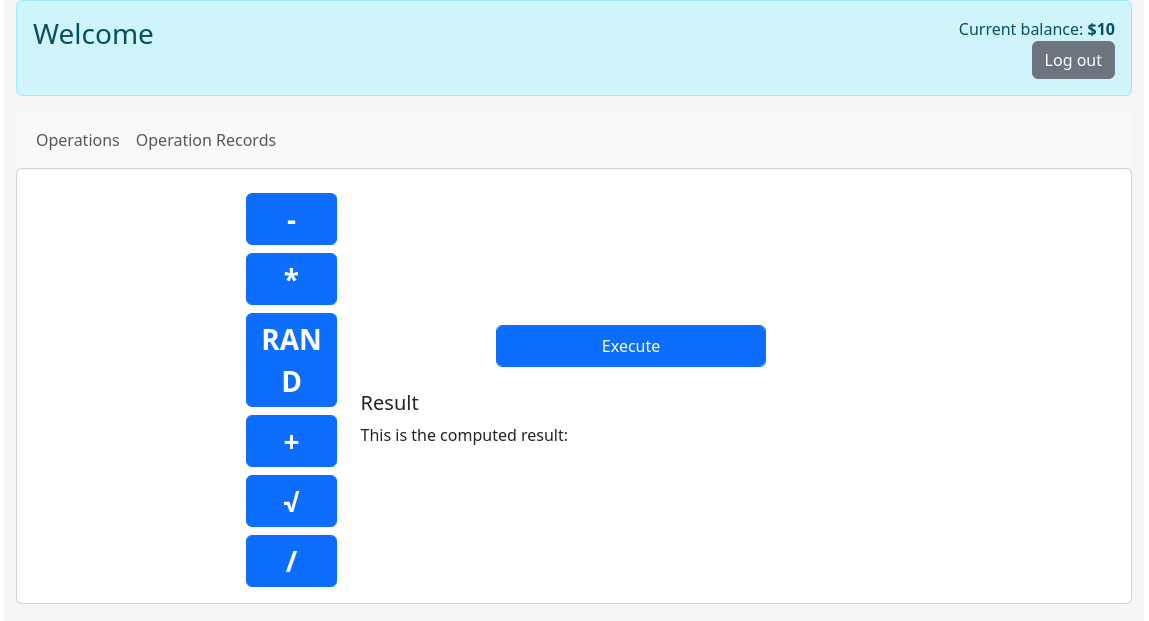
Operation › should create an operation request
Click the button with test id "operation-exec-button" showing "-" at (292, 219), box top-left (246, 193), bottom-right (337, 245)
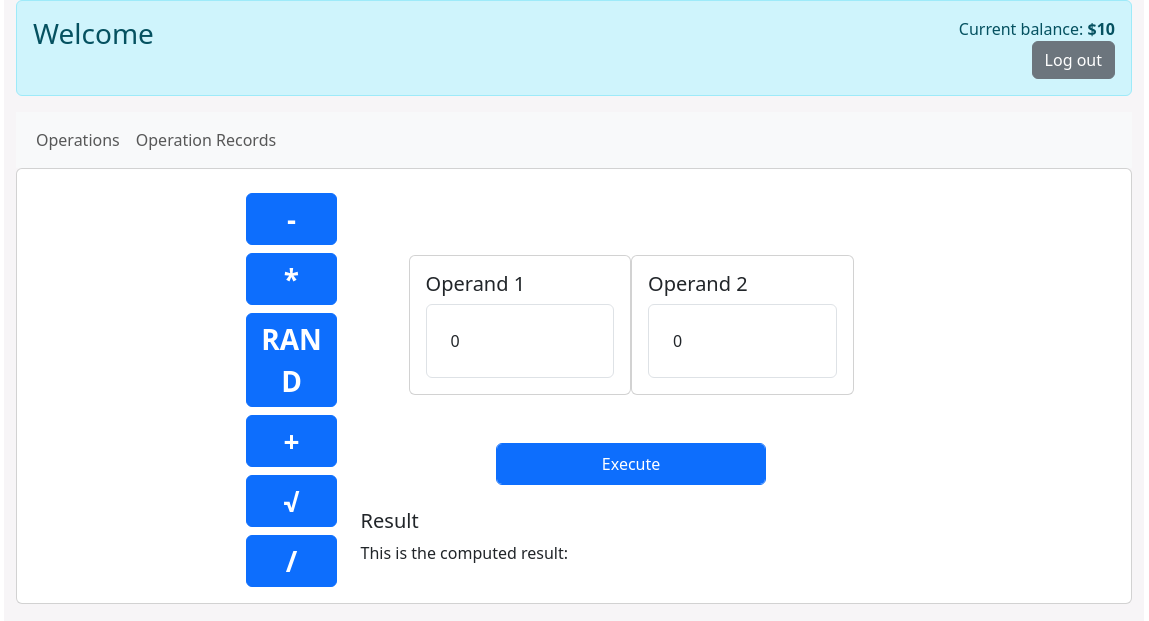
Type "5" into the number field with test id "operation-operand1-input" at (520, 341), box top-left (426, 304), bottom-right (614, 378)
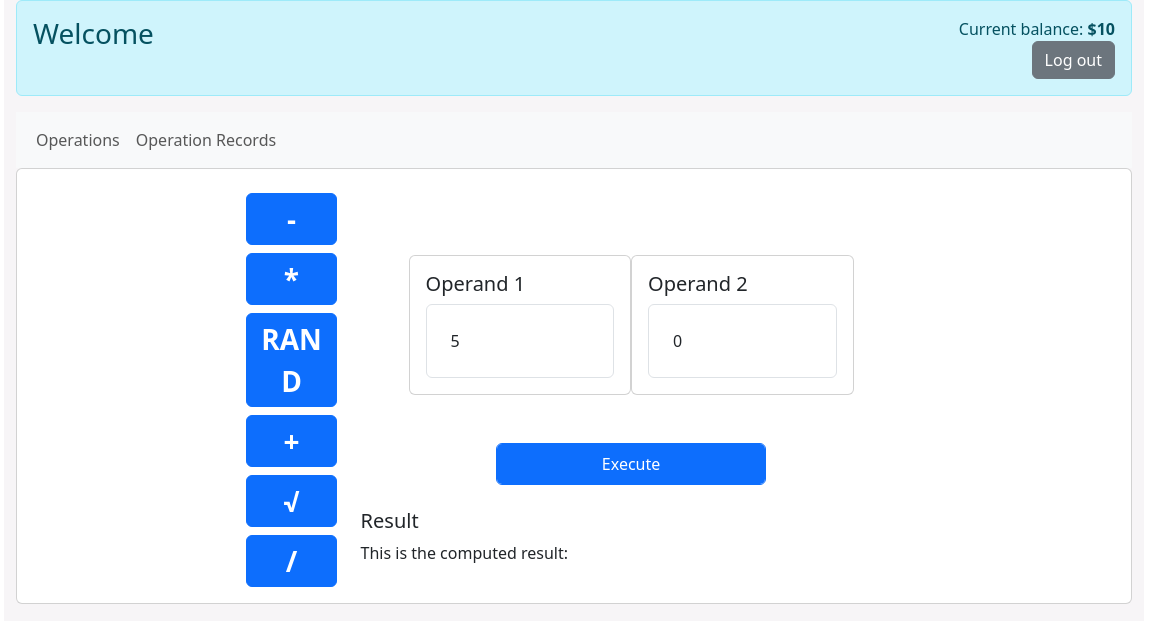
Type "3" into the number field with test id "operation-operand2-input" at (742, 341), box top-left (648, 304), bottom-right (837, 378)
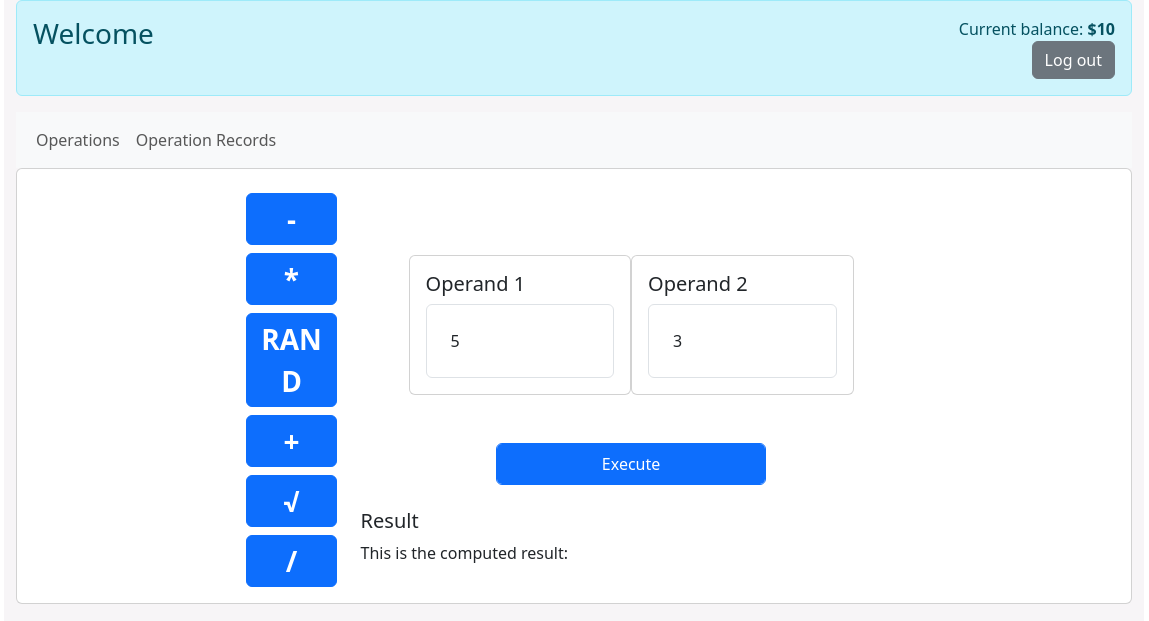
Click the button with test id "operation-submit-button" at (631, 464), box top-left (496, 443), bottom-right (766, 485)
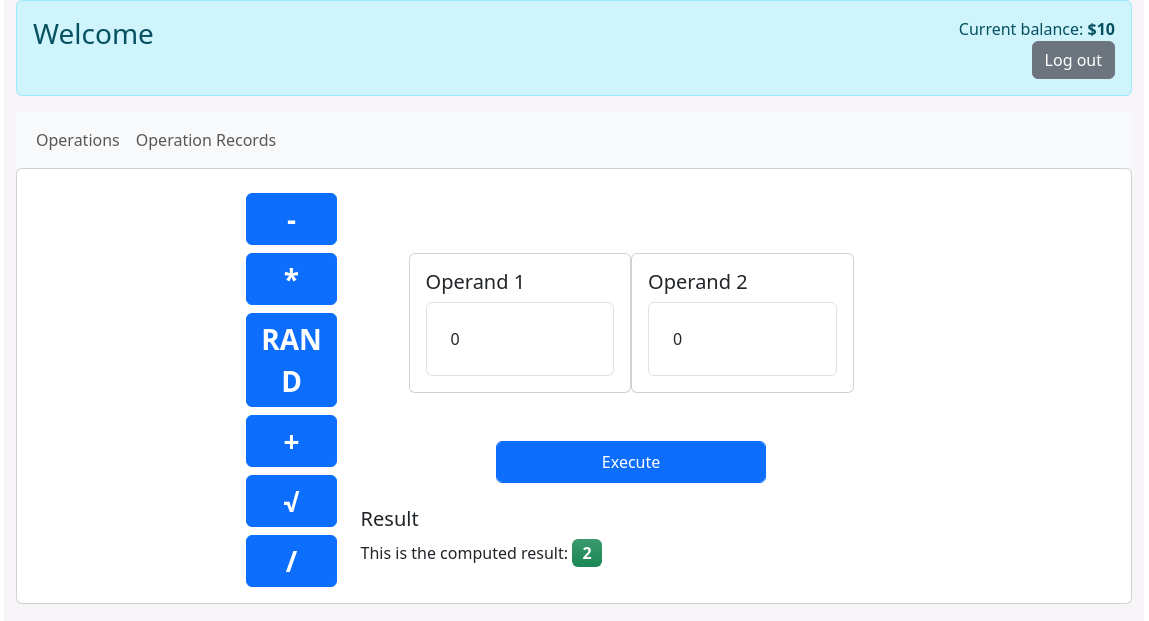
Expected: the text "This is the computed result:" reads "This is the computed result: 2", top-left (361, 539), bottom-right (602, 567)
